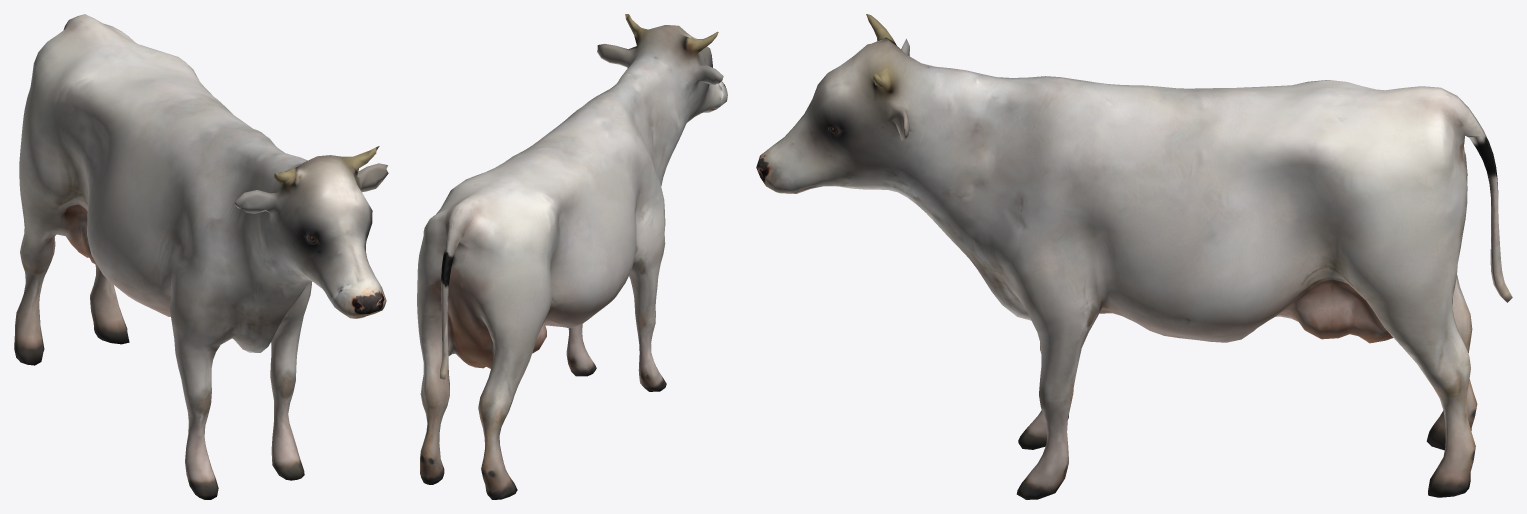
Rendered from Cow.dae.
3 renders of one model, left to right at view 1: azimuth 30°, elevation 25°; view 2: azimuth 150°, elevation 25°; view 3: azimuth 270°, elevation 25°, orthographic. The views are drawn at different scales.
Parts seen in each view (by area): view 1: Dairy_cow; view 2: Dairy_cow; view 3: Dairy_cow.
Part boxes in pixels (bbox=[...]): Dairy_cow: bbox=[14, 14, 388, 499]; Dairy_cow: bbox=[417, 14, 727, 499]; Dairy_cow: bbox=[756, 14, 1512, 499].
Bounding box in the file's own units: 0.8219 × 3.03 × 1.92.
Materials: 1 (1 with a texture image).
